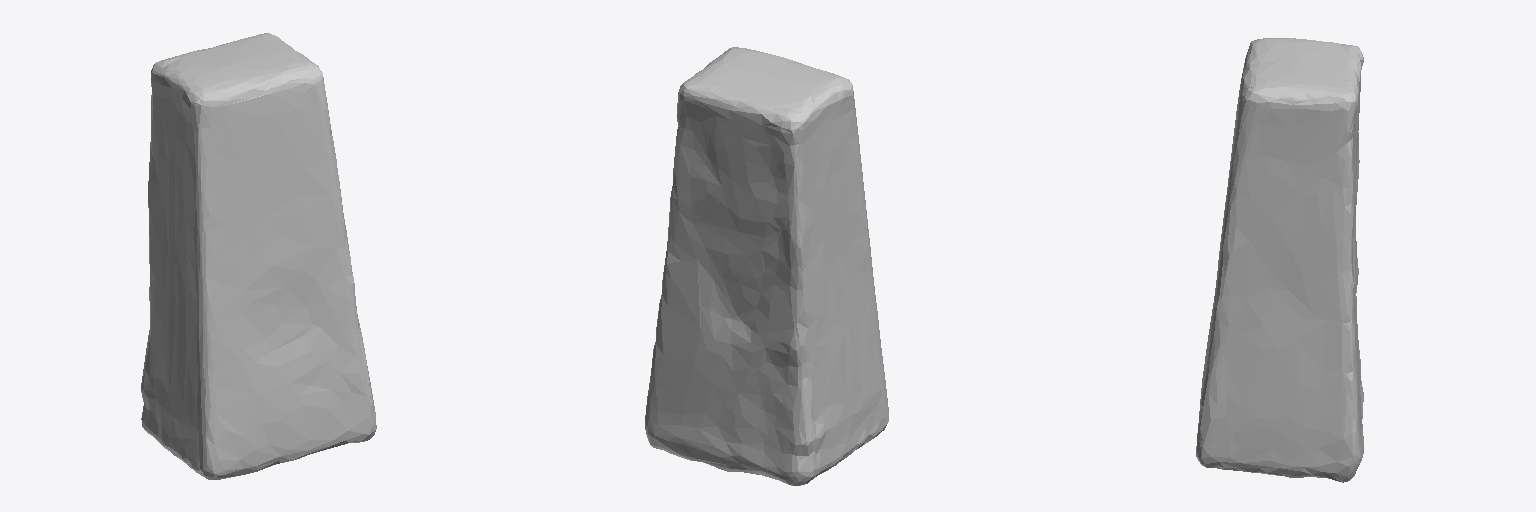
Rendered from cleaned_mesh_2000.obj.
3 renders of one model, left to right at view 1: azimuth 30°, elevation 25°; view 2: azimuth 150°, elevation 25°; view 3: azimuth 270°, elevation 25°, orthographic.
Size of the model in its own units: 0.0971 by 0.2014 by 0.0806.